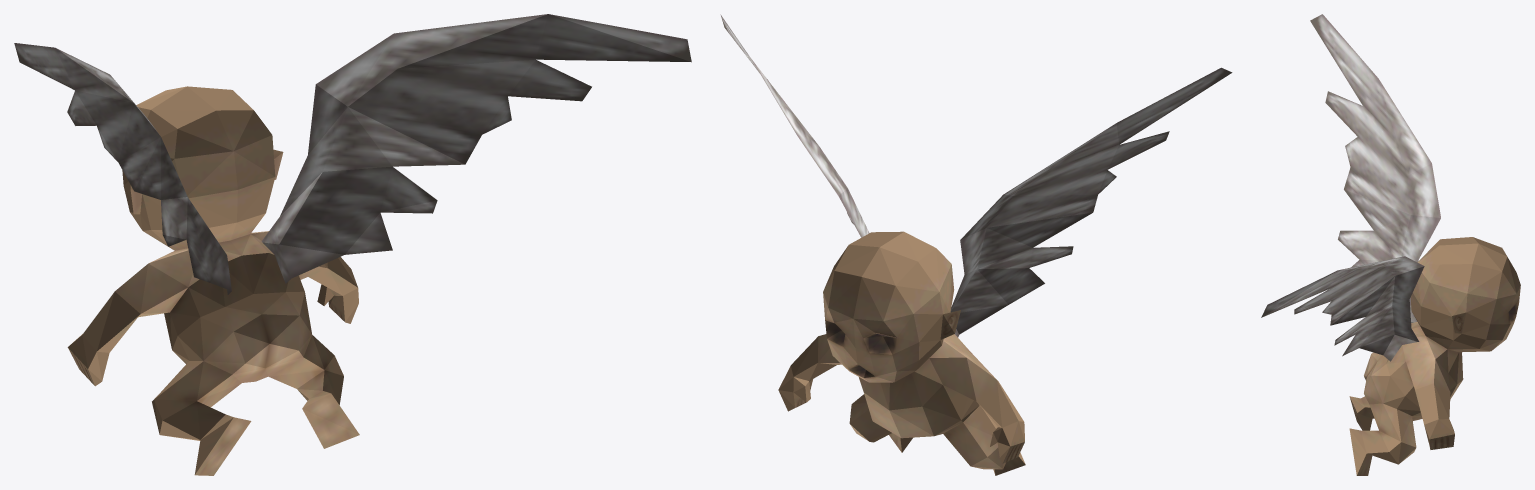
The model's file is ICON.obj.
3 views of the same model, side by side, from view 1: azimuth 30°, elevation 25°; view 2: azimuth 150°, elevation 25°; view 3: azimuth 270°, elevation 25° (orthographic). The views are drawn at different scales.
Size of the model in its own units: 3.84 by 2.97 by 2.
Materials: 1 (1 with a texture image).
